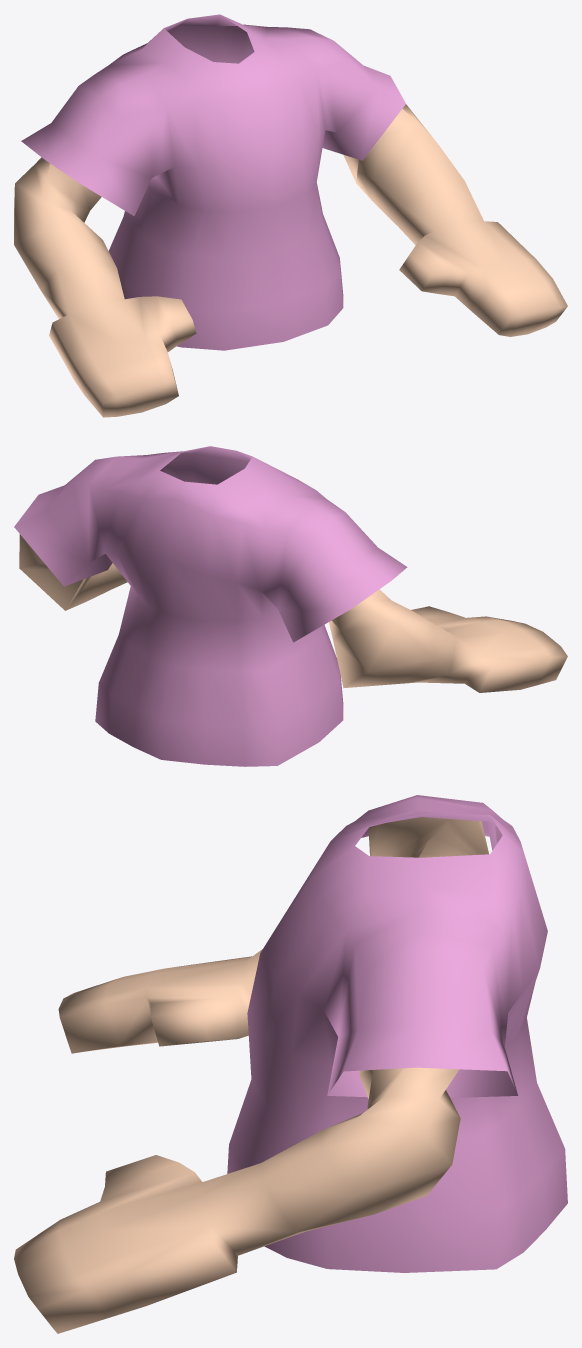
File: torso.fbx
The picture shows the model from 3 angles, top to bottom: view 1: azimuth 30°, elevation 25°; view 2: azimuth 150°, elevation 25°; view 3: azimuth 270°, elevation 25°; orthographic projection. The views are drawn at different scales.
Parts seen in each view (by area): view 1: Roundcube.001; view 2: Roundcube.001; view 3: Roundcube.001.
Boxes of the visible parts, <box> form: Roundcube.001: <box>14,14,567,417</box>; Roundcube.001: <box>14,446,567,766</box>; Roundcube.001: <box>14,795,567,1333</box>.
Size of the model in its own units: 71.41 by 39.08 by 52.71.
